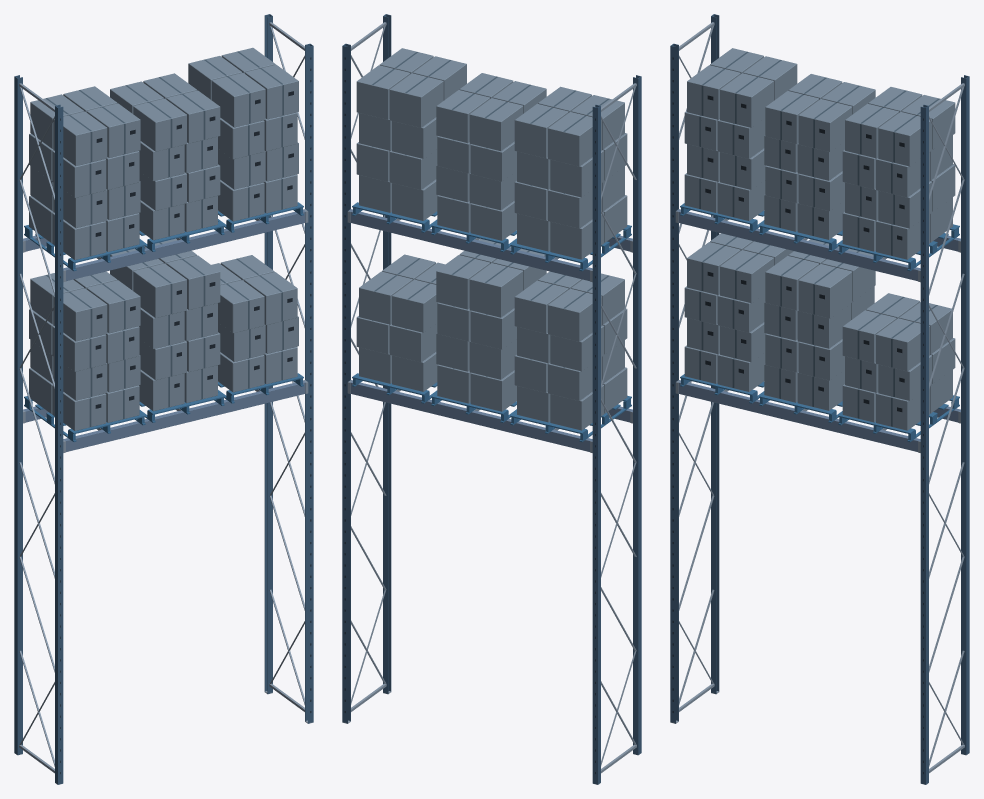
The model's file is SM_GHS_V2Rack_A_Pass_W36176_Capacity.fbx.
3 views of the same model, side by side, from view 1: azimuth 30°, elevation 25°; view 2: azimuth 150°, elevation 25°; view 3: azimuth 330°, elevation 25° (orthographic).
Visible parts, largest first — view 1: SM_GHS_V2Rack_A_Pass_W36176_Capacity; view 2: SM_GHS_V2Rack_A_Pass_W36176_Capacity; view 3: SM_GHS_V2Rack_A_Pass_W36176_Capacity.
Boxes of the visible parts, x1,y1,x2,y2 form: SM_GHS_V2Rack_A_Pass_W36176_Capacity: (14,14,313,784); SM_GHS_V2Rack_A_Pass_W36176_Capacity: (342,14,641,784); SM_GHS_V2Rack_A_Pass_W36176_Capacity: (670,14,969,784).
Bounding box in the file's own units: 362 × 122 × 915.
